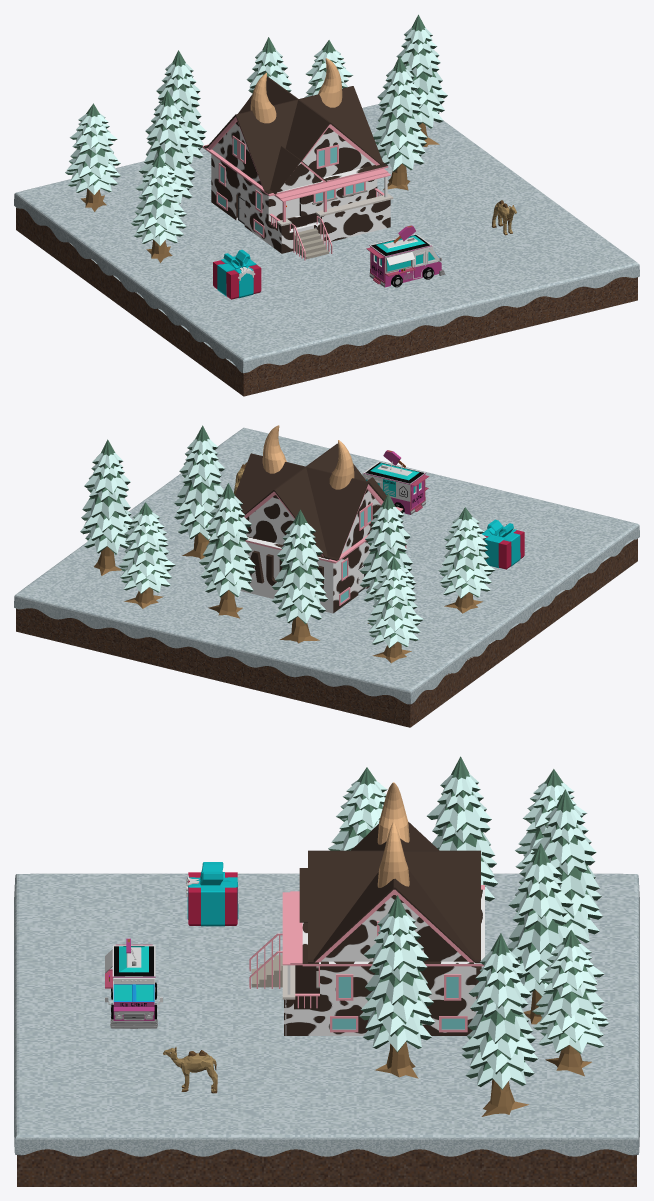
3 views of the same model, one above another, from view 1: azimuth 30°, elevation 25°; view 2: azimuth 150°, elevation 25°; view 3: azimuth 270°, elevation 25° (orthographic). The views are drawn at different scales.
Visible parts, largest first — view 1: Cube.003, Cube.1242, VEHICLES_ICE_CREAM_TRUCK, OBJRANDOM_GIANT_PRESENT; view 2: Cube.003, Cube.1242, VEHICLES_ICE_CREAM_TRUCK, OBJRANDOM_GIANT_PRESENT; view 3: Cube.003, Cube.1242, VEHICLES_ICE_CREAM_TRUCK, OBJRANDOM_GIANT_PRESENT, ANIMAL_CAMELLO.
Boxes of the visible parts, x1,y1,x2,y2 form: Cube.003: (14,14,639,396); Cube.1242: (202,58,393,260); VEHICLES_ICE_CREAM_TRUCK: (366,225,445,287); OBJRANDOM_GIANT_PRESENT: (213,249,261,299); Cube.003: (14,425,639,727); Cube.1242: (235,425,406,613); VEHICLES_ICE_CREAM_TRUCK: (362,450,429,514); OBJRANDOM_GIANT_PRESENT: (482,519,524,569); Cube.003: (14,756,639,1186); Cube.1242: (249,782,484,1035); VEHICLES_ICE_CREAM_TRUCK: (105,938,162,1028); OBJRANDOM_GIANT_PRESENT: (186,862,238,926); ANIMAL_CAMELLO: (163,1047,217,1093).
Size of the model in its own units: 4040 by 1861 by 4040.
42 materials, 3 textured.
